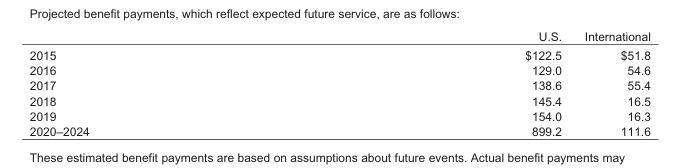table: (28, 29, 649, 137)
table column: (28, 29, 306, 137), (306, 29, 572, 137), (572, 29, 649, 137)
table column header: (28, 29, 649, 45)
table row: (28, 45, 649, 62), (28, 29, 649, 45), (28, 107, 649, 123), (28, 62, 649, 77), (28, 77, 649, 92), (28, 92, 649, 107), (28, 123, 649, 137)
